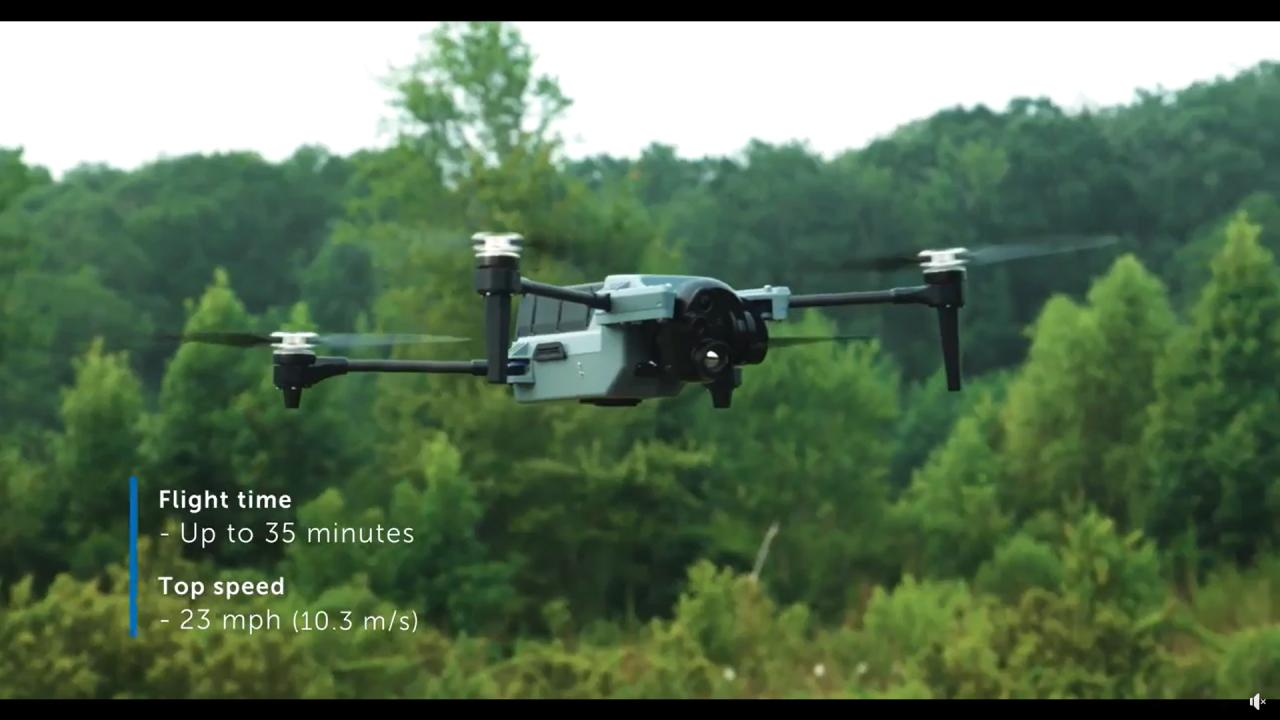Drone: (94, 192, 1173, 444)
